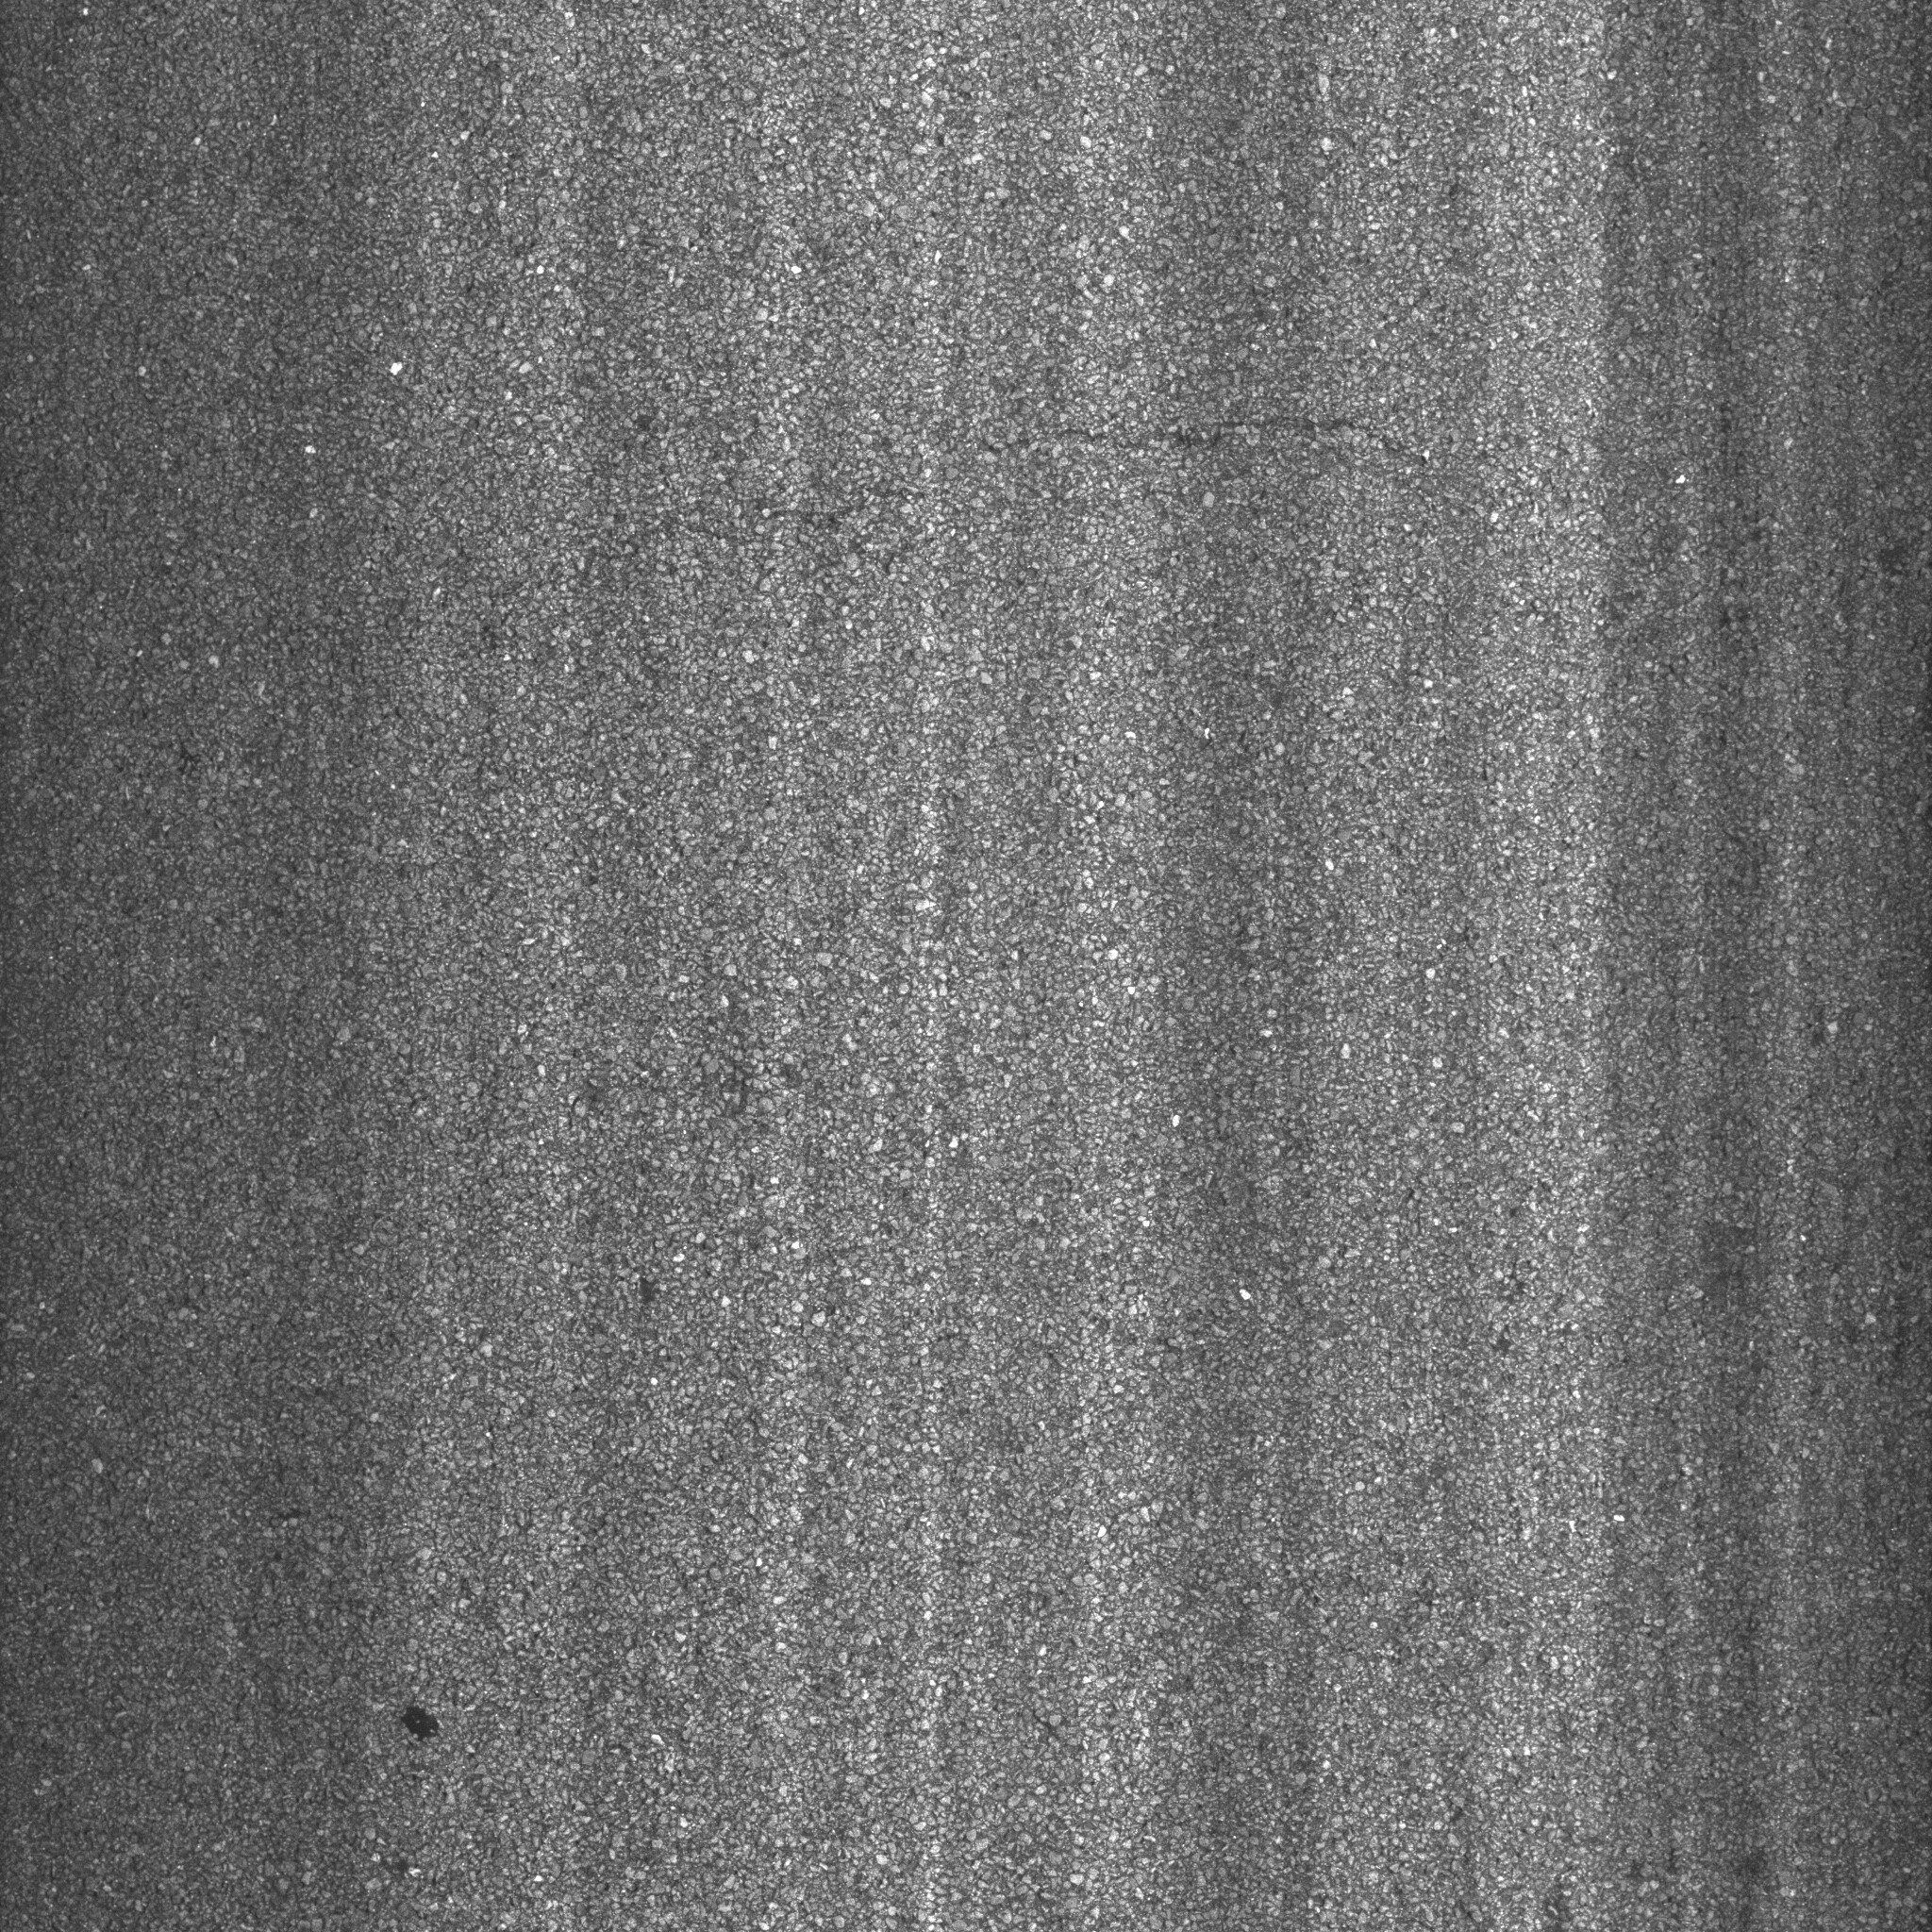transverse: (550, 372, 1523, 621)
